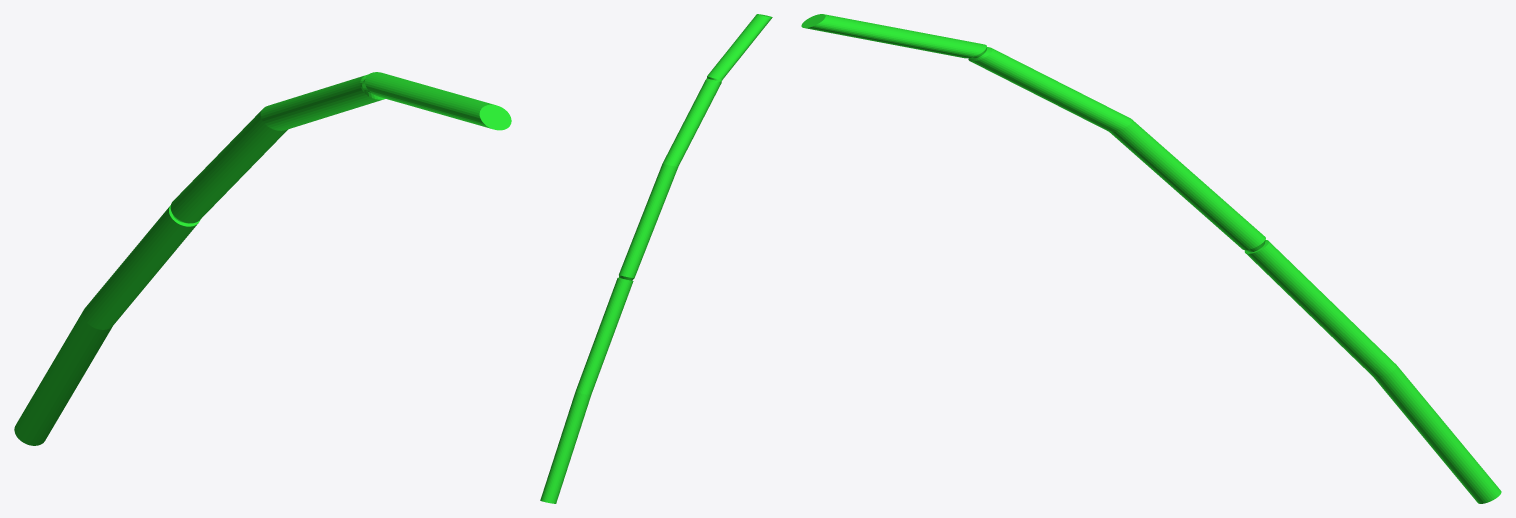
The model's file is pancingan bambu 2.fbx.
3 renders of one model, left to right at view 1: azimuth 30°, elevation 25°; view 2: azimuth 150°, elevation 25°; view 3: azimuth 270°, elevation 25°, orthographic. The views are drawn at different scales.
Visible parts, largest first — view 1: Cylinder; view 2: Cylinder; view 3: Cylinder.
Part boxes in pixels (x1,y1,x2,y2): Cylinder: (14, 72, 511, 445); Cylinder: (540, 14, 772, 503); Cylinder: (801, 14, 1501, 503).
Size of the model in its own units: 101 by 1413 by 1824.
